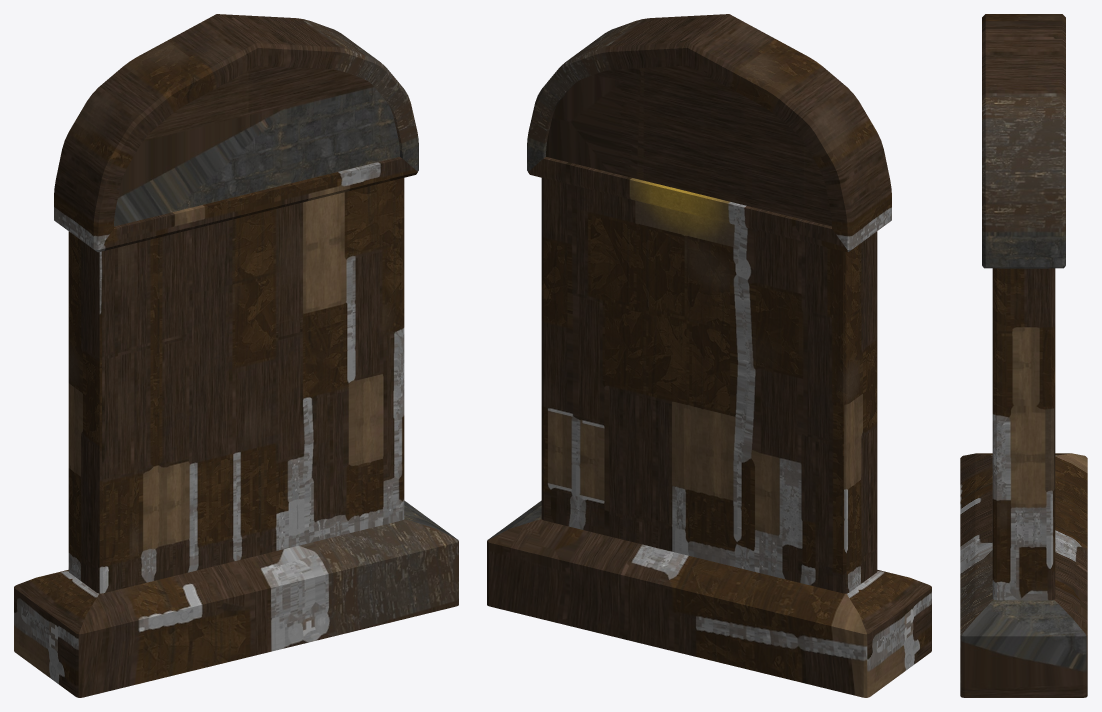
The model's file is tombstones3.fbx.
The picture shows the model from 3 angles, left to right: view 1: azimuth 30°, elevation 25°; view 2: azimuth 150°, elevation 25°; view 3: azimuth 270°, elevation 25°; orthographic projection. The views are drawn at different scales.
Parts seen in each view (by area): view 1: Tombstone 2_Lapide2_0; view 2: Tombstone 2_Lapide2_0; view 3: Tombstone 2_Lapide2_0.
Part boxes in pixels (bbox=[...]): Tombstone 2_Lapide2_0: bbox=[14, 14, 458, 697]; Tombstone 2_Lapide2_0: bbox=[487, 14, 931, 697]; Tombstone 2_Lapide2_0: bbox=[960, 14, 1087, 697].
Bounding box in the file's own units: 55.9 × 83.71 × 16.74.
